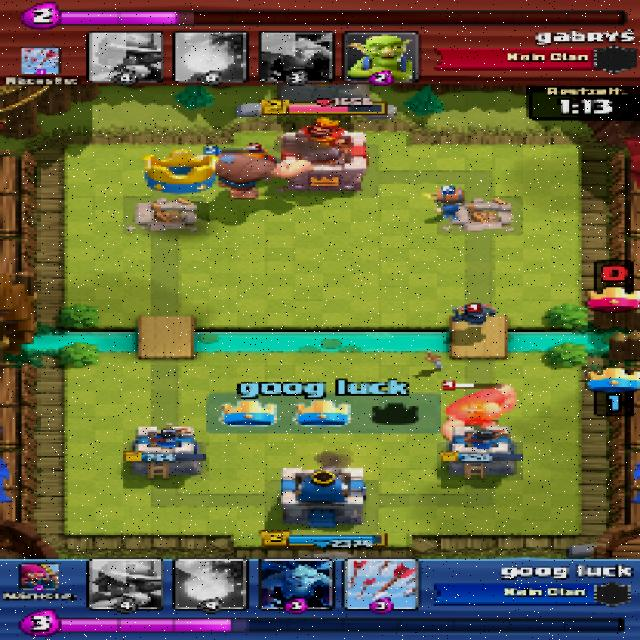Enemy-Giant: (442, 383, 518, 437)
Enemy-Knight: (228, 145, 277, 165)
Enemy-MiniPEKKA: (451, 306, 500, 324)
Player-Giant: (197, 152, 310, 201)
Player-Wallbreaker: (425, 187, 468, 218)
